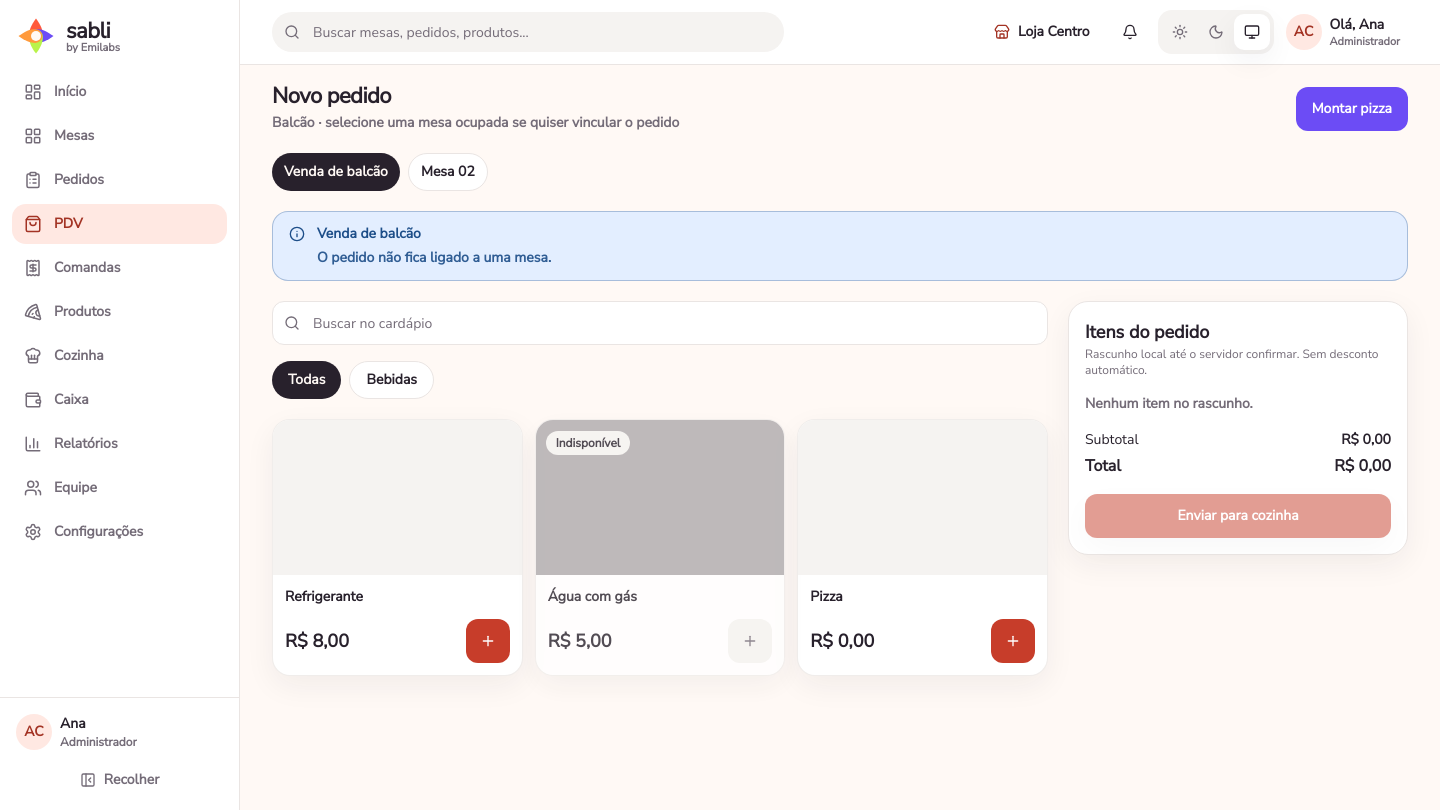
Test: pedidos e KDS API › confirma pedido de mesa e não aplica o desconto ilustrativo
Expected: the heading "Refrigerante" is shown, left=285, top=587, right=363, bottom=606
Click the button "Mesa 02" at (448, 172), box left=408, top=153, right=488, bottom=191
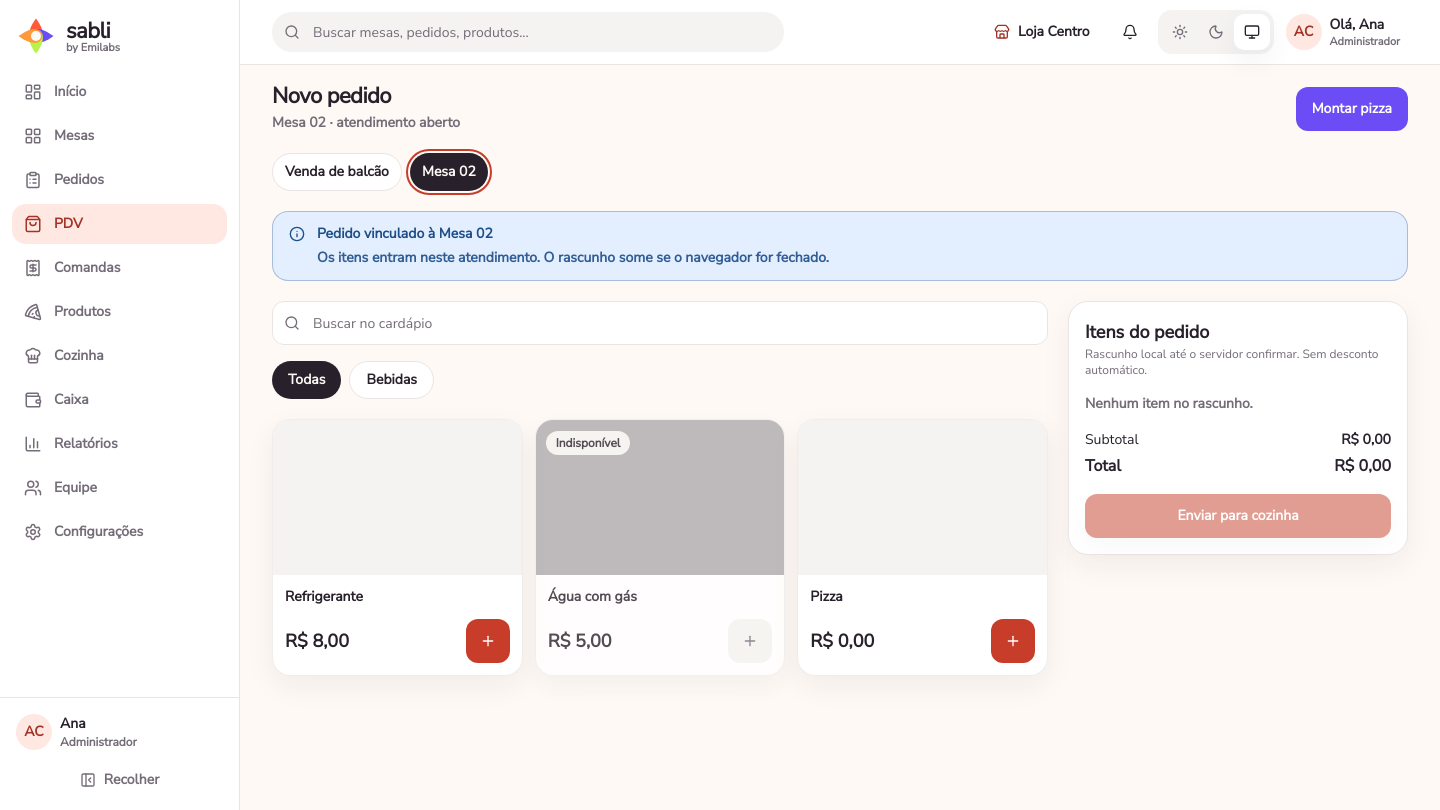
Click the button named "Adicionar Refrigerante" at (488, 641), box left=466, top=619, right=510, bottom=663
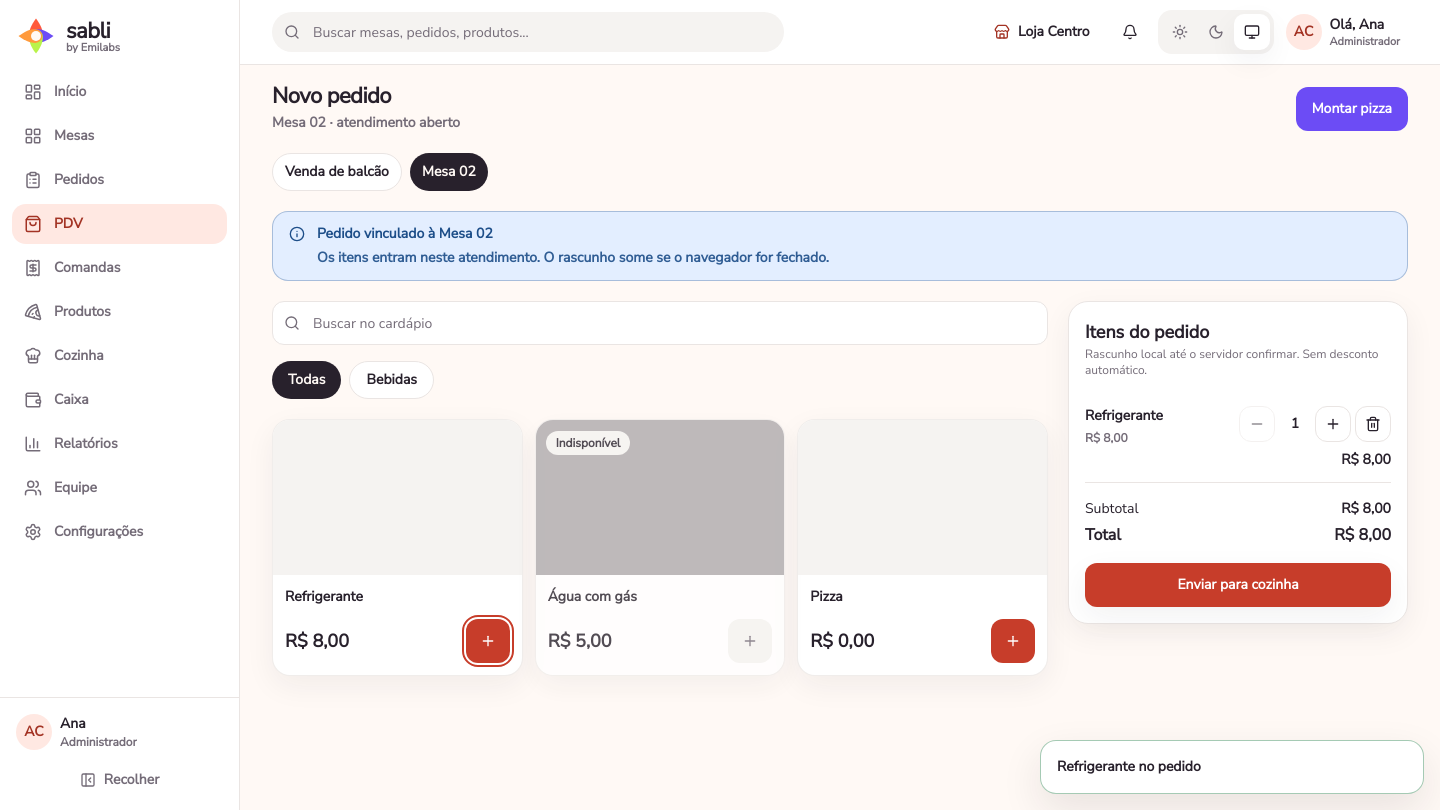
Expected: the heading "Itens do pedido" is shown, left=1085, top=320, right=1209, bottom=344
Click the button "Enviar para cozinha" at (1238, 585), box left=1085, top=563, right=1391, bottom=607
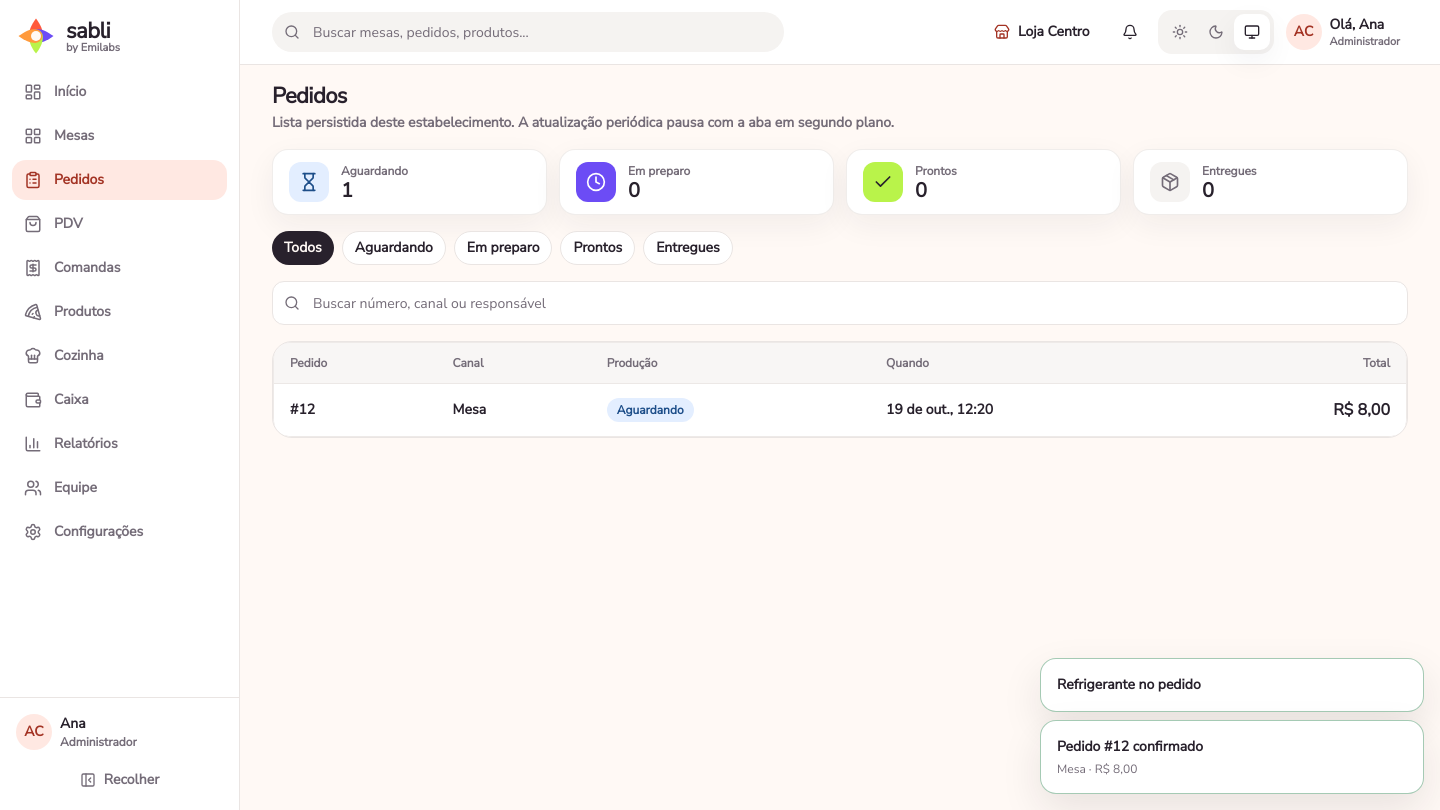
Expected: the heading "Pedidos" is shown, left=272, top=81, right=347, bottom=111
Expected: the text "#12" is shown, left=290, top=400, right=315, bottom=419
